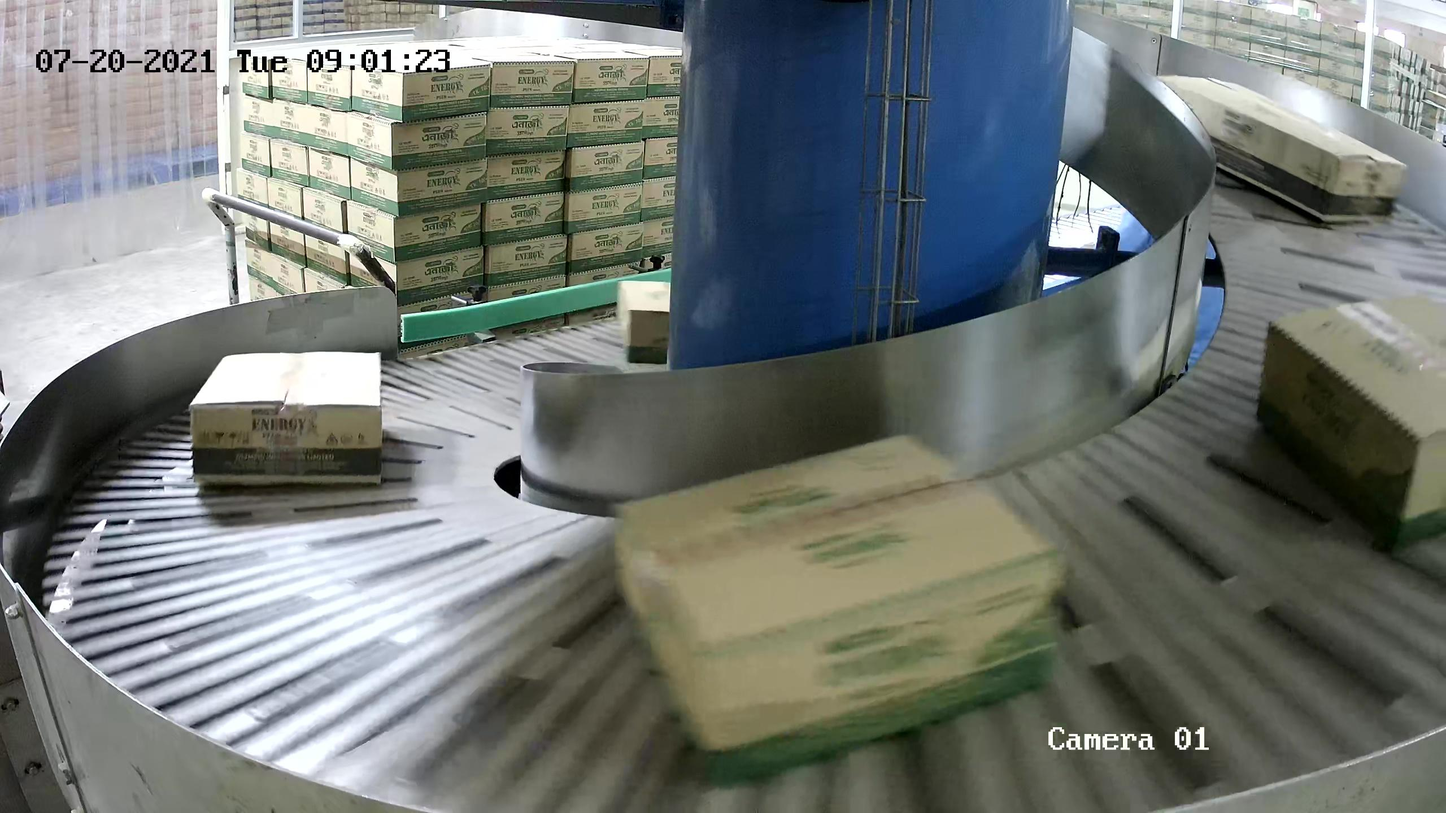Box: (608, 431, 1066, 791), (1255, 293, 1446, 557), (1150, 71, 1409, 223), (189, 349, 384, 486), (616, 279, 671, 364)
